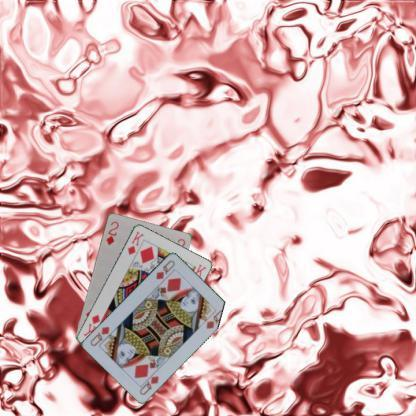2d: (104, 219, 119, 246)
Kd: (125, 228, 145, 256)
Qd: (136, 367, 160, 396), (152, 257, 176, 281)
